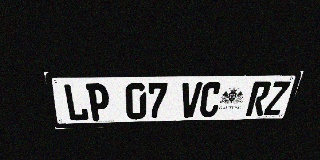0: (125, 83, 146, 120)
7: (147, 83, 168, 119)
C: (198, 82, 223, 117)
L: (62, 84, 89, 121)
P: (86, 83, 110, 121)
R: (245, 81, 272, 116)
V: (179, 82, 203, 118)
Z: (263, 81, 291, 115)
